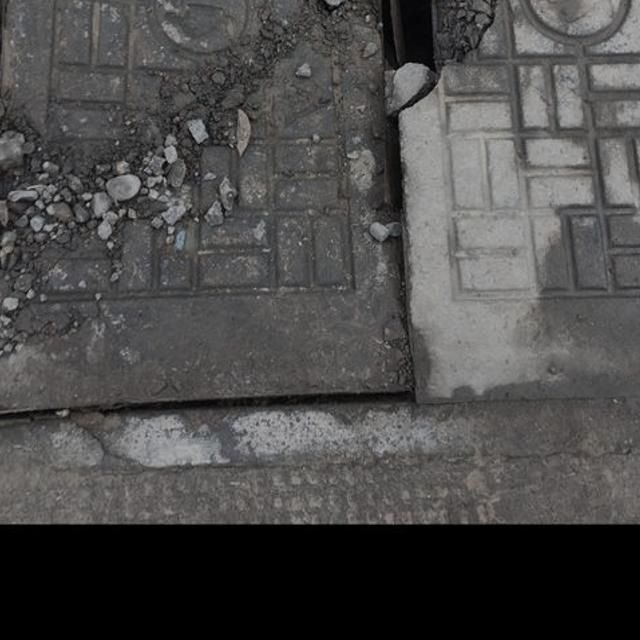broke: (0, 0, 640, 486)
